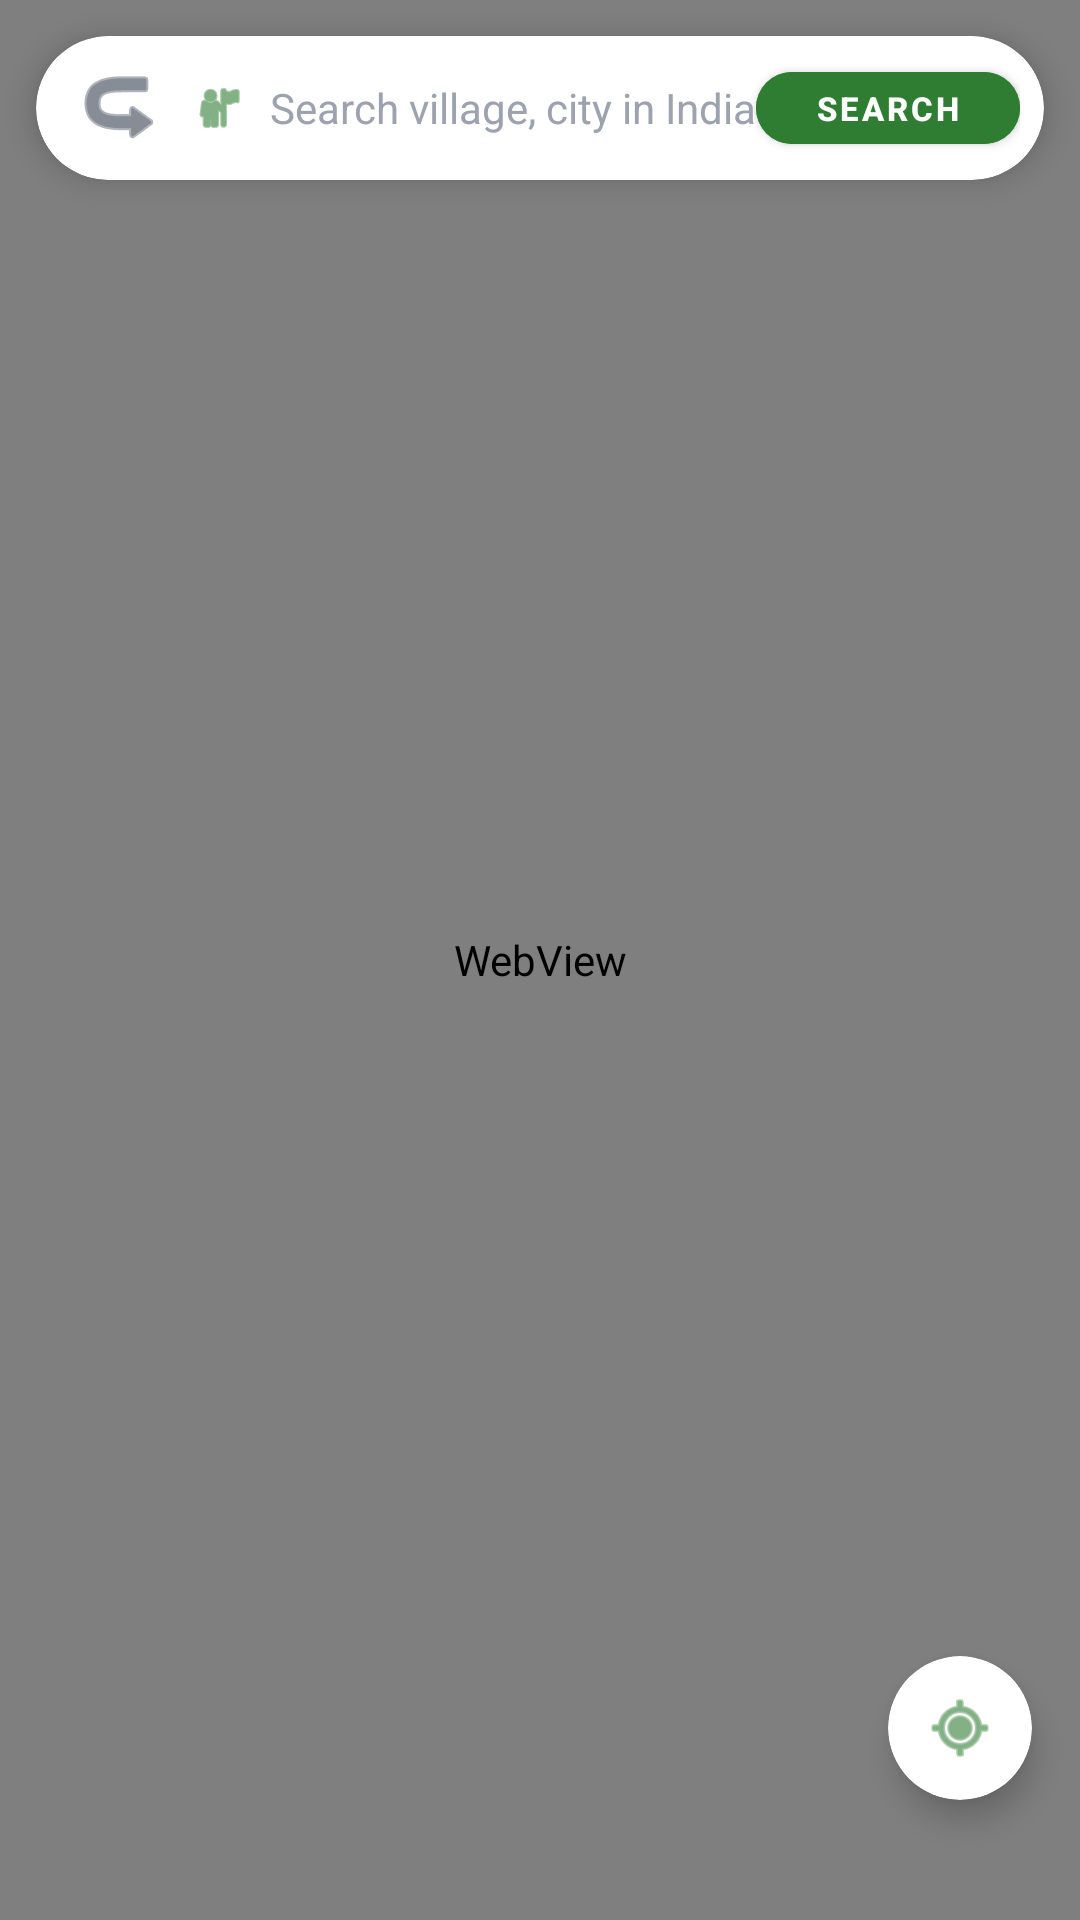

Named icons in this screenshot (1080 × 1920) and their centers, (x,y):
mylocation: (960,1728)
myplaces: (219,108)
